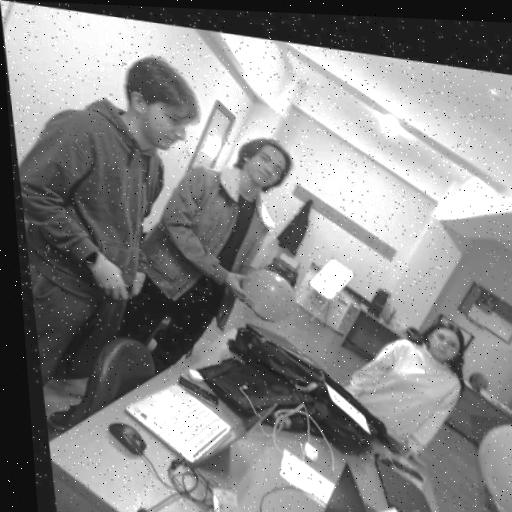balloon: (467, 405, 512, 512), (237, 260, 296, 320)
